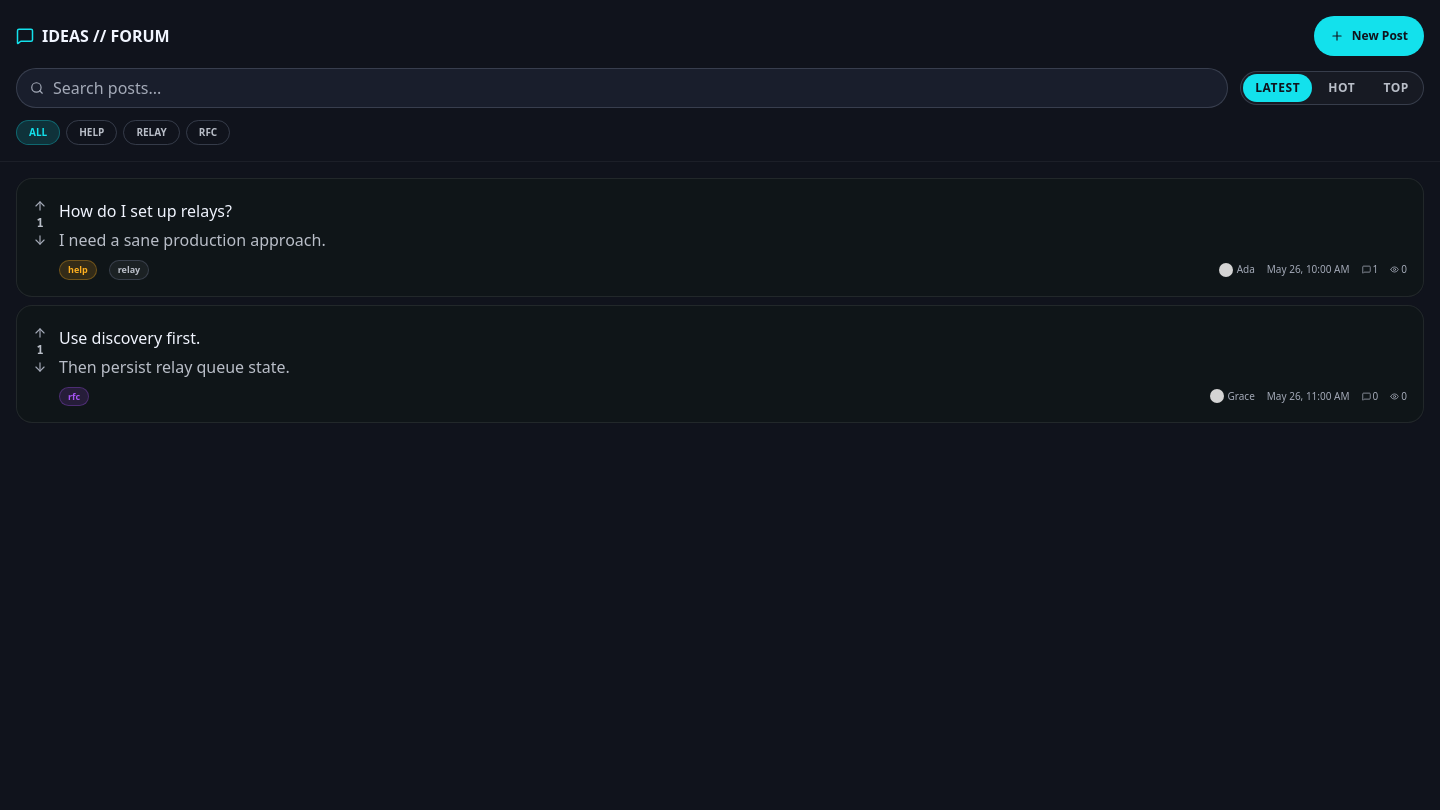
Test case: ForumChannel backend wiring › surfaces a publish failure and does not invent a local post
The image size is (1440, 810).
Click the button "New Post" at (1369, 36), box top-left (1314, 16), bottom-right (1424, 56)
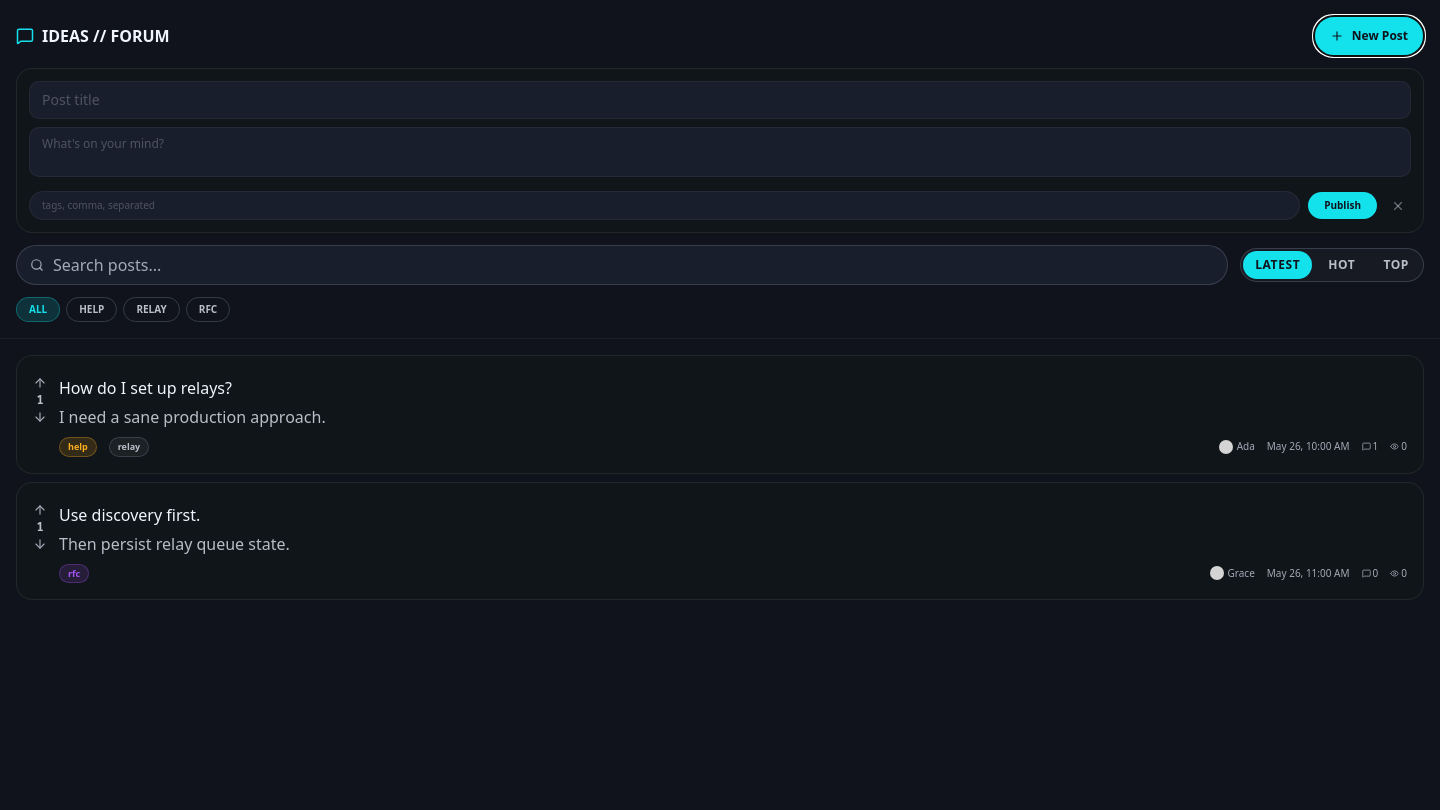
Type "Failed post" into the field labelled "Post title" at (720, 100), box top-left (29, 81), bottom-right (1411, 119)
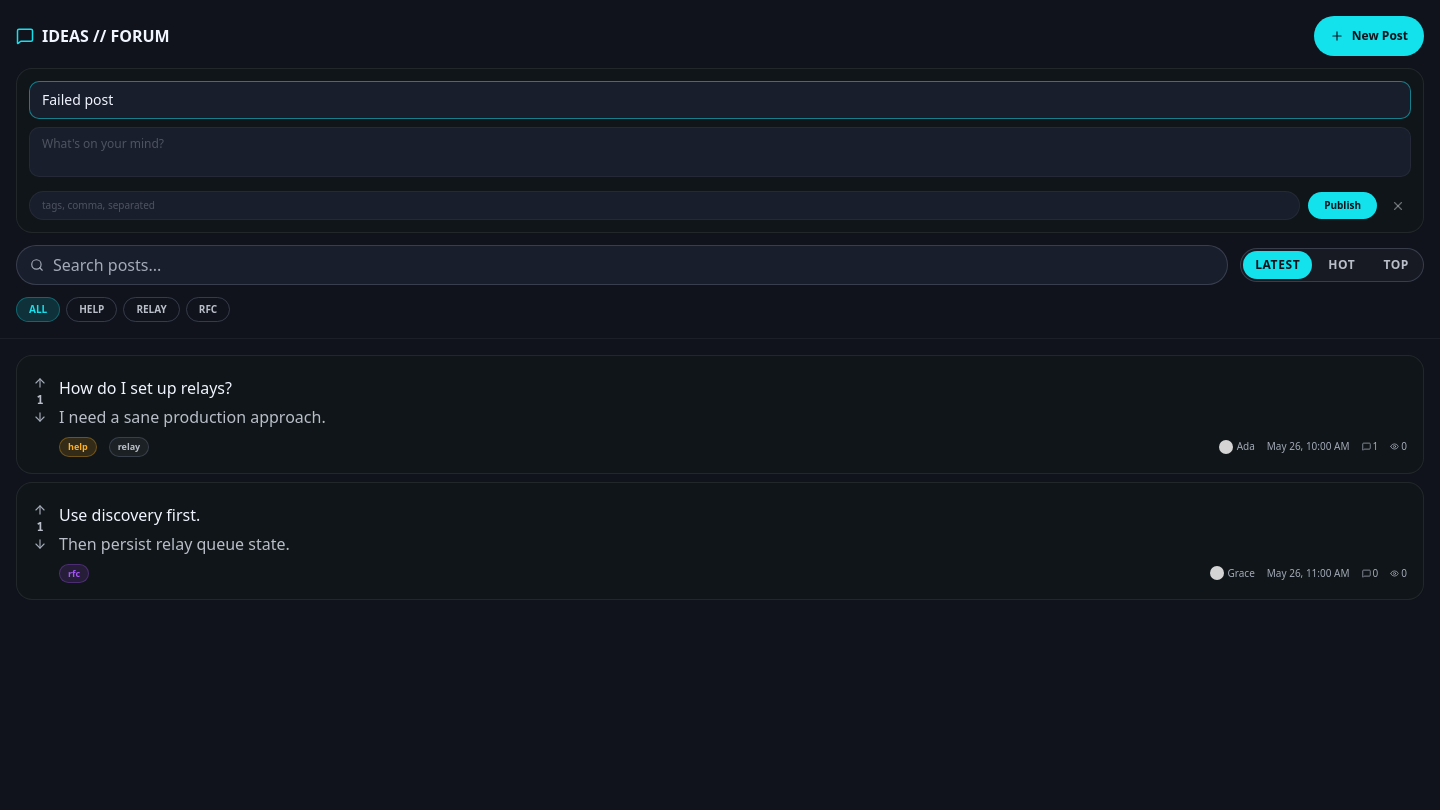
Type "Should stay local-only" into the text box named "post content" at (720, 152), box top-left (29, 127), bottom-right (1411, 177)
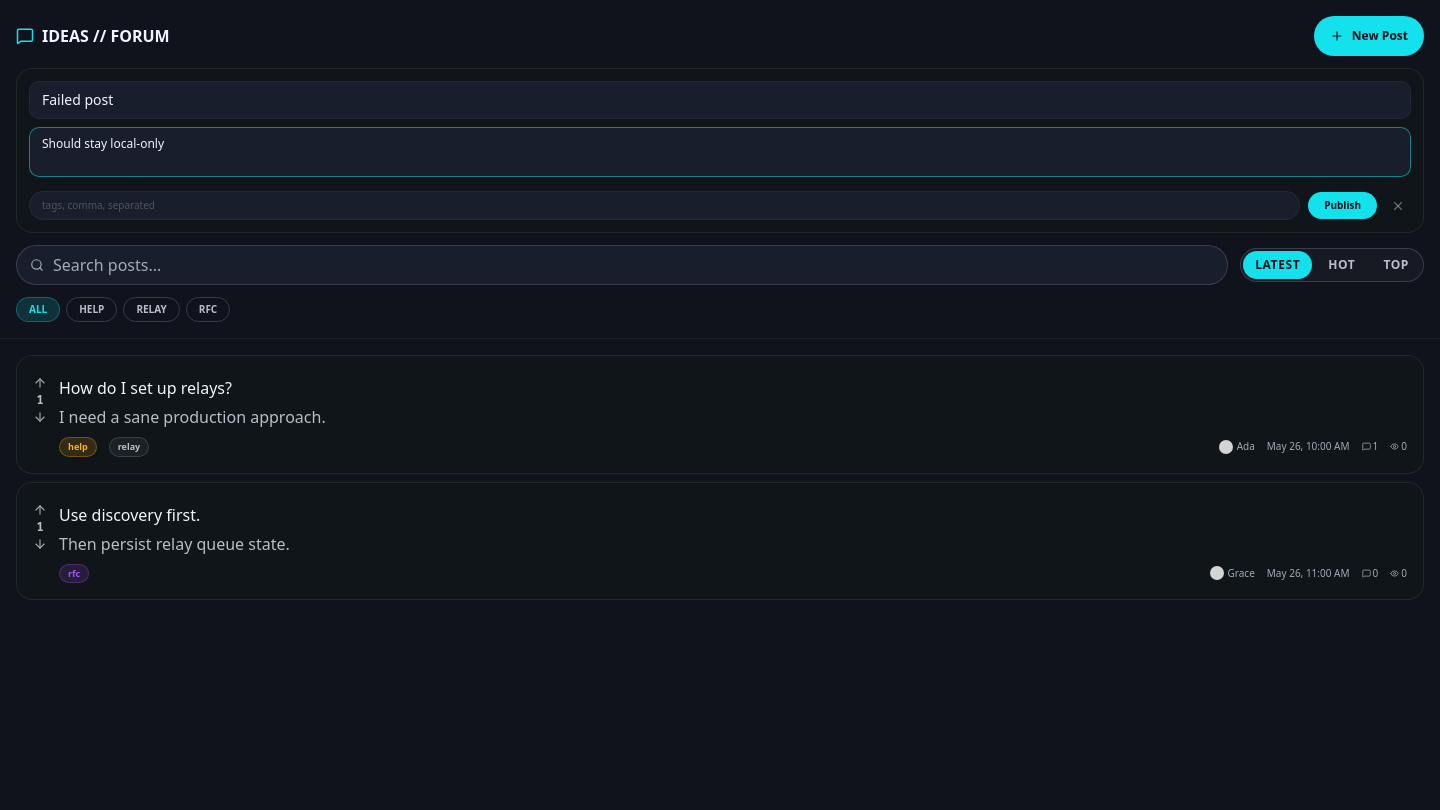
Click the button "Publish" at (1343, 206), box top-left (1308, 192), bottom-right (1377, 219)
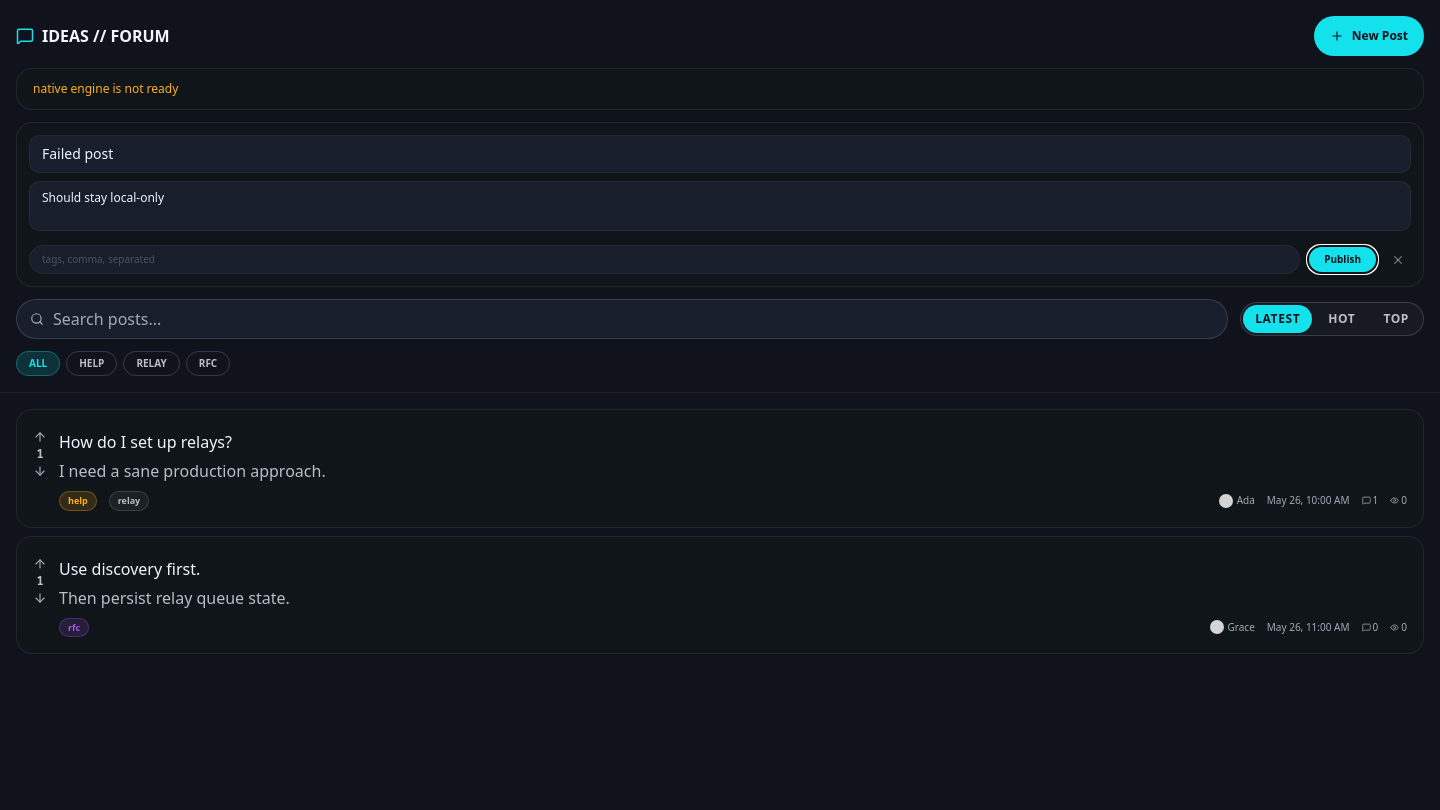
Check: the message reads "native engine is not ready", box top-left (33, 80), bottom-right (178, 97)
